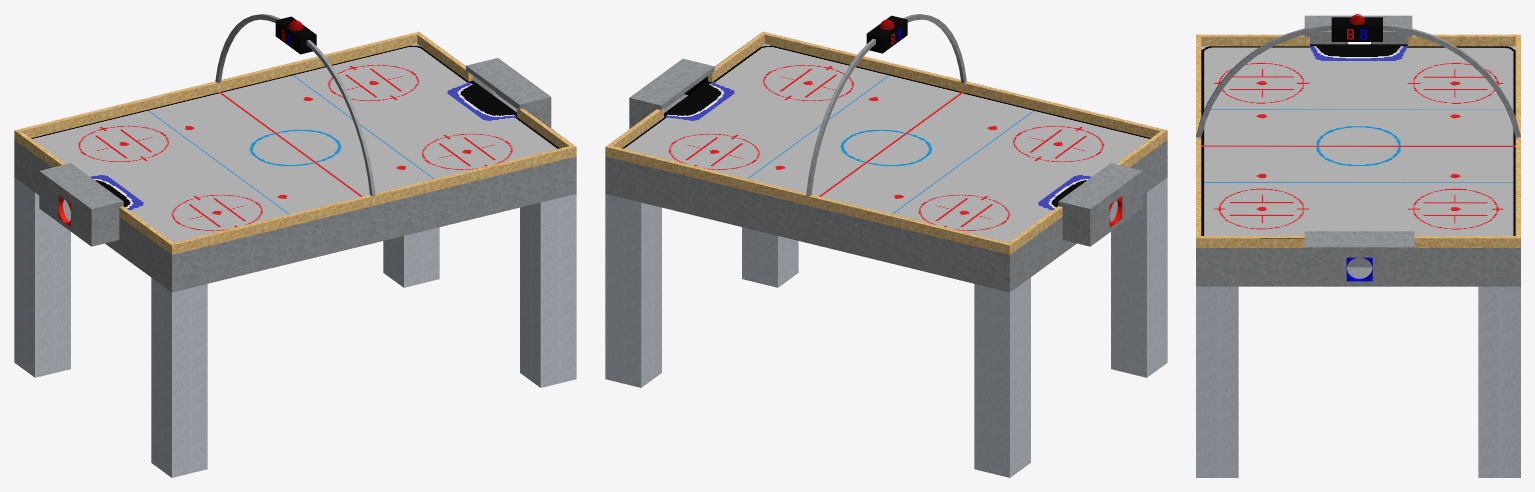
Rendered from TableA_1.FBX.
3 views of the same model, side by side, from view 1: azimuth 30°, elevation 25°; view 2: azimuth 150°, elevation 25°; view 3: azimuth 270°, elevation 25° (orthographic). The views are drawn at different scales.
Parts seen in each view (by area): view 1: Layer0_001; view 2: Layer0_001; view 3: Layer0_001.
Part boxes in pixels (x1,y1,x2,y2): Layer0_001: (14,14,576,477); Layer0_001: (605,14,1167,477); Layer0_001: (1196,14,1520,477).
Size of the model in its own units: 2604 by 1898 by 1544.
8 materials, 4 textured.
